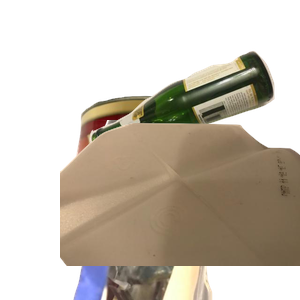glass: (87, 48, 300, 190)
metal: (69, 93, 265, 273)
plastic: (60, 120, 300, 300)
trash: (63, 120, 300, 300)
